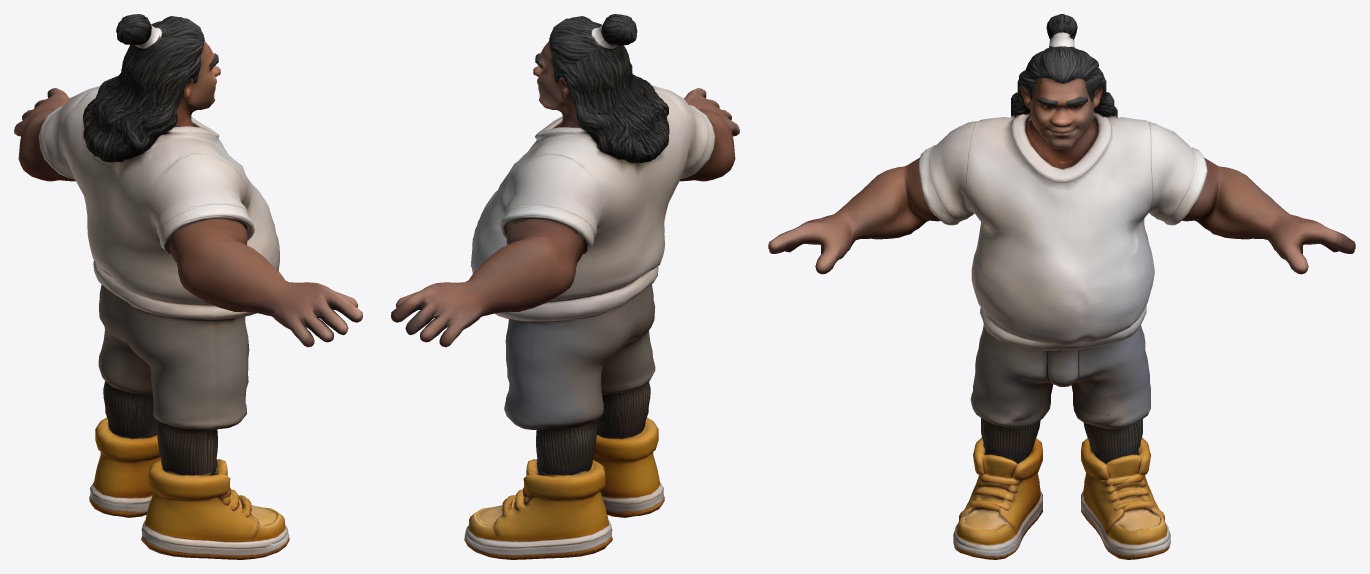
3 views of the same model, side by side, from view 1: azimuth 30°, elevation 25°; view 2: azimuth 150°, elevation 25°; view 3: azimuth 270°, elevation 25° (orthographic). The views are drawn at different scales.
Visible parts, largest first — view 1: tripo_node_03b56fcd; view 2: tripo_node_03b56fcd; view 3: tripo_node_03b56fcd.
Boxes of the visible parts, x1,y1,x2,y2 form: tripo_node_03b56fcd: (14,14,362,559); tripo_node_03b56fcd: (391,14,739,559); tripo_node_03b56fcd: (768,14,1355,559).
Bounding box in the file's own units: 0.3366 × 0.9374 × 1.
Materials: 1 (1 with a texture image).
